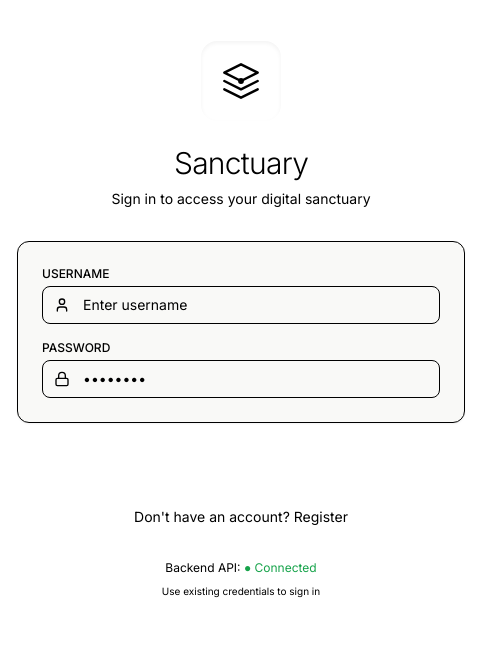
Test: Login Component › should toggle to register mode when clicked
Step 1. Click the button "Don't have an account? Register" → click(241, 517), box [17,507,465,527]
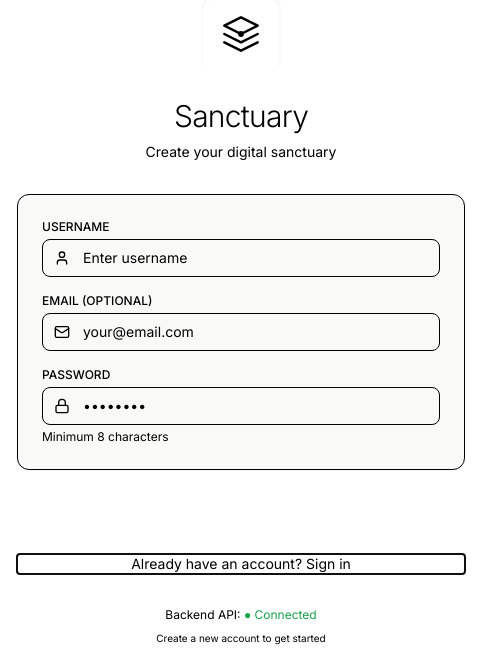
Now the text "Create your digital sanctuary" is shown, box [146,143,336,160]
Now the field labelled "Email (Optional)" is shown, box [42,313,440,351]
